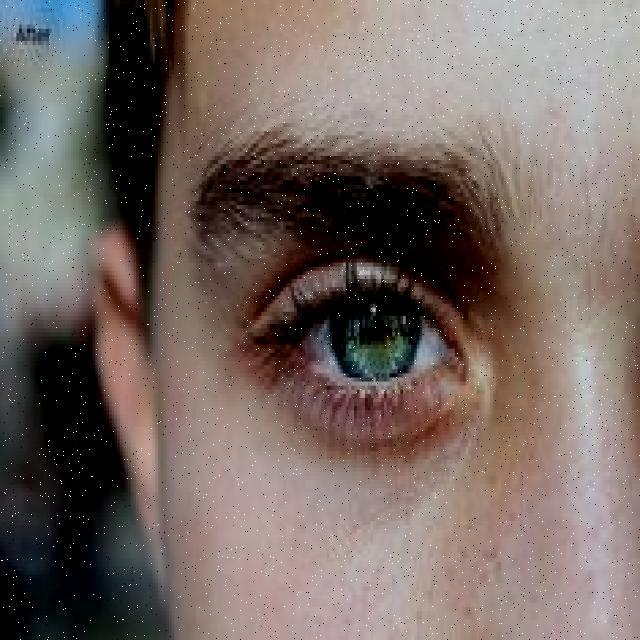Normal: (87, 0, 637, 636)
